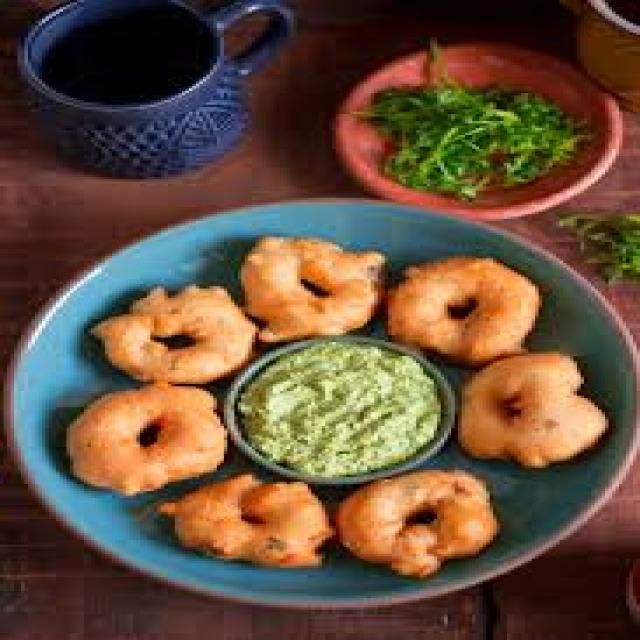MEDU VADA: (336, 470, 493, 575), (458, 354, 605, 465), (388, 256, 539, 363), (164, 475, 332, 566), (91, 289, 255, 379), (241, 237, 378, 340)
